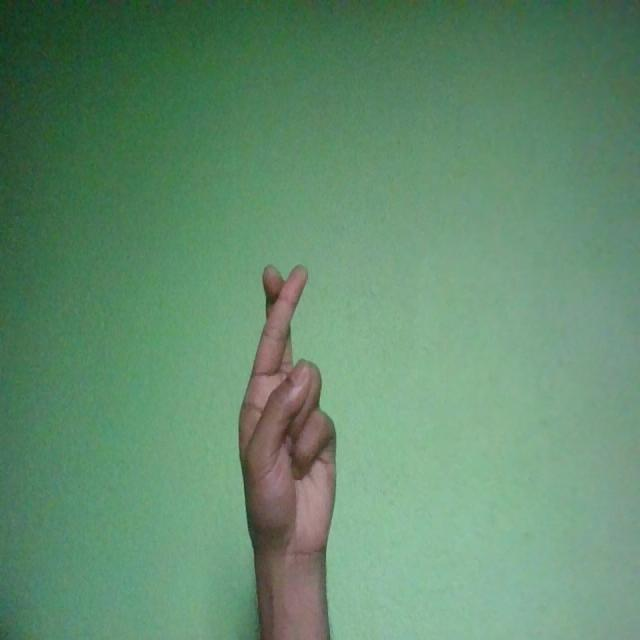Ok: (239, 262, 336, 565)
